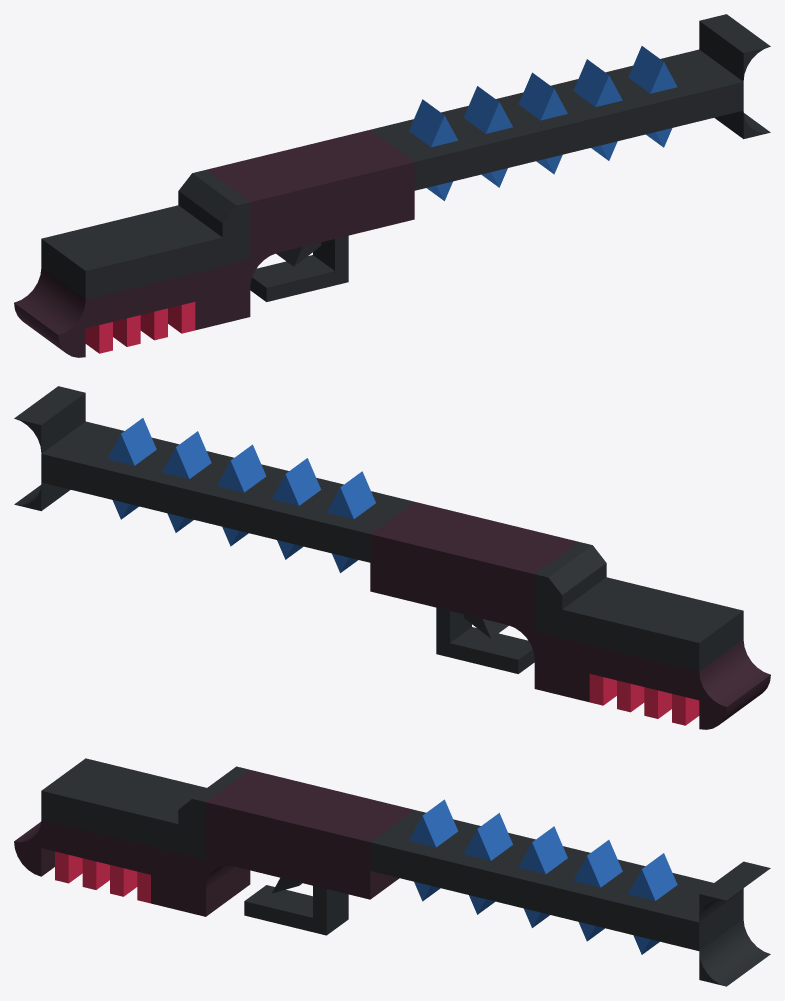
File: SpikeShotgun.glb
The picture shows the model from 3 angles, top to bottom: view 1: azimuth 30°, elevation 25°; view 2: azimuth 150°, elevation 25°; view 3: azimuth 330°, elevation 25°; orthographic projection.
Parts seen in each view (by area): view 1: generated(Clone); view 2: generated(Clone); view 3: generated(Clone).
Part boxes in pixels (x1,y1,x2,y2): generated(Clone): (14, 14, 770, 357); generated(Clone): (14, 386, 770, 729); generated(Clone): (14, 758, 770, 986).
Size of the model in its own units: 26 by 5 by 2.8.
